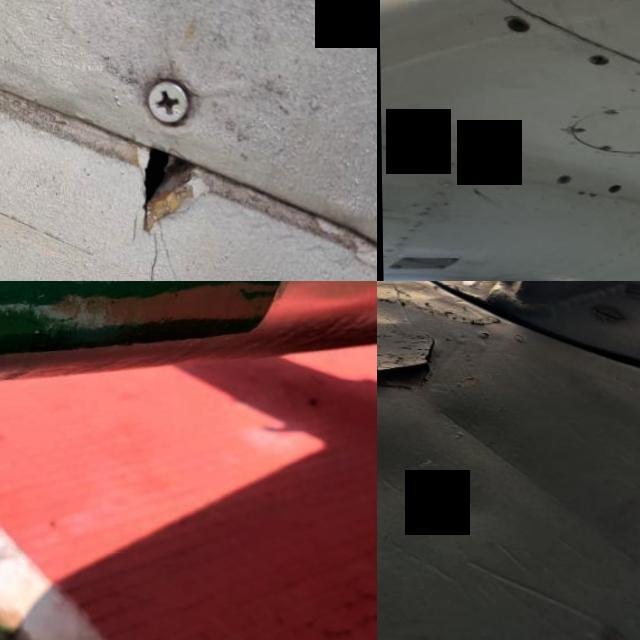Crack: (100, 120, 236, 262), (377, 300, 456, 402)
Dent: (377, 395, 429, 536)
Missing_Fastener: (386, 132, 410, 150), (504, 15, 529, 32), (588, 52, 611, 68), (604, 182, 622, 192), (554, 173, 572, 183)
